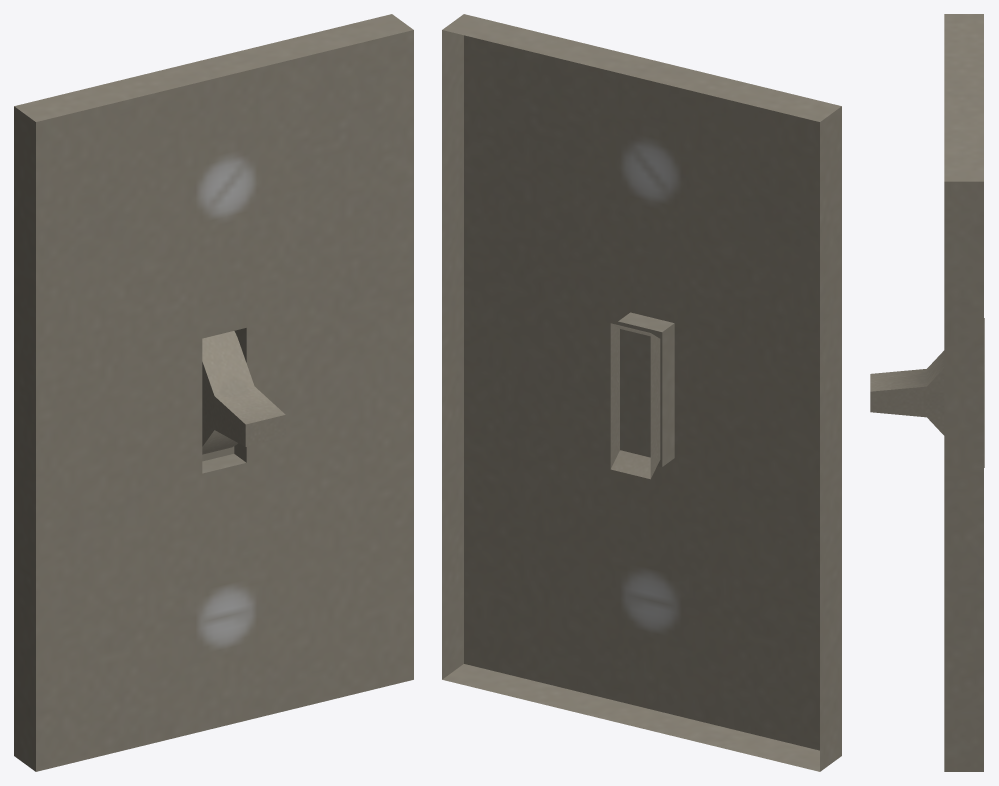
Rendered from Switch.fbx.
3 renders of one model, left to right at view 1: azimuth 30°, elevation 25°; view 2: azimuth 150°, elevation 25°; view 3: azimuth 270°, elevation 25°, orthographic. The views are drawn at different scales.
Visible parts, largest first — view 1: LightSwitch, Switch; view 2: LightSwitch, Switch; view 3: LightSwitch, Switch.
Part boxes in pixels (x1,y1,x2,y2): LightSwitch: [14, 14, 413, 771]; Switch: [202, 331, 285, 454]; LightSwitch: [442, 14, 841, 771]; Switch: [610, 323, 660, 479]; LightSwitch: [944, 14, 983, 771]; Switch: [870, 318, 984, 467].
Bounding box in the file's own units: 7 × 11.5 × 2.02.
